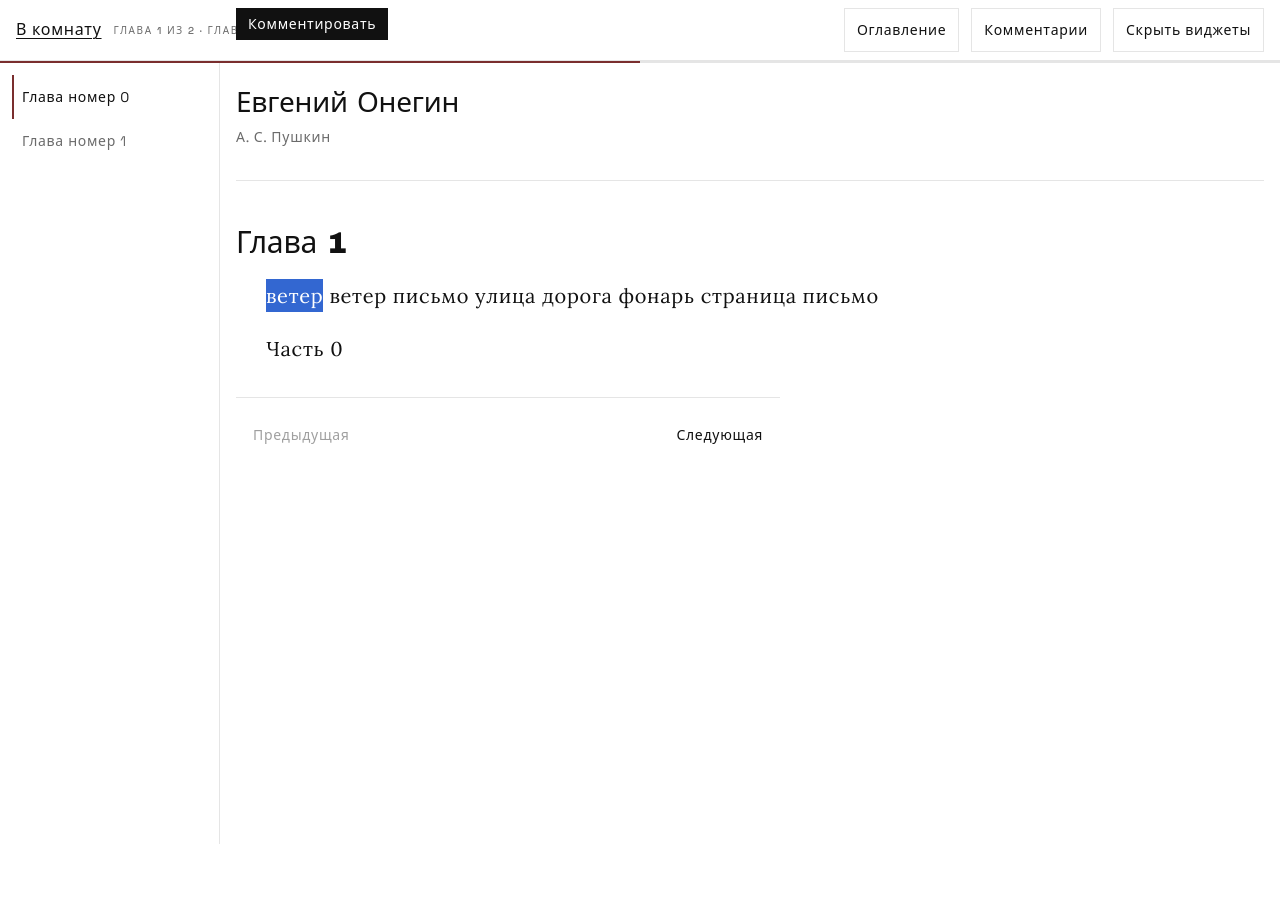
Test case: создание комментария целиком › два комментария подряд дают два маркера
Expected: the text "ветер ветер письмо улица дорога фонарь страница письмо" is shown, [236, 279, 916, 312]
Click the button "Комментировать": (312, 24) [236, 8, 388, 40]
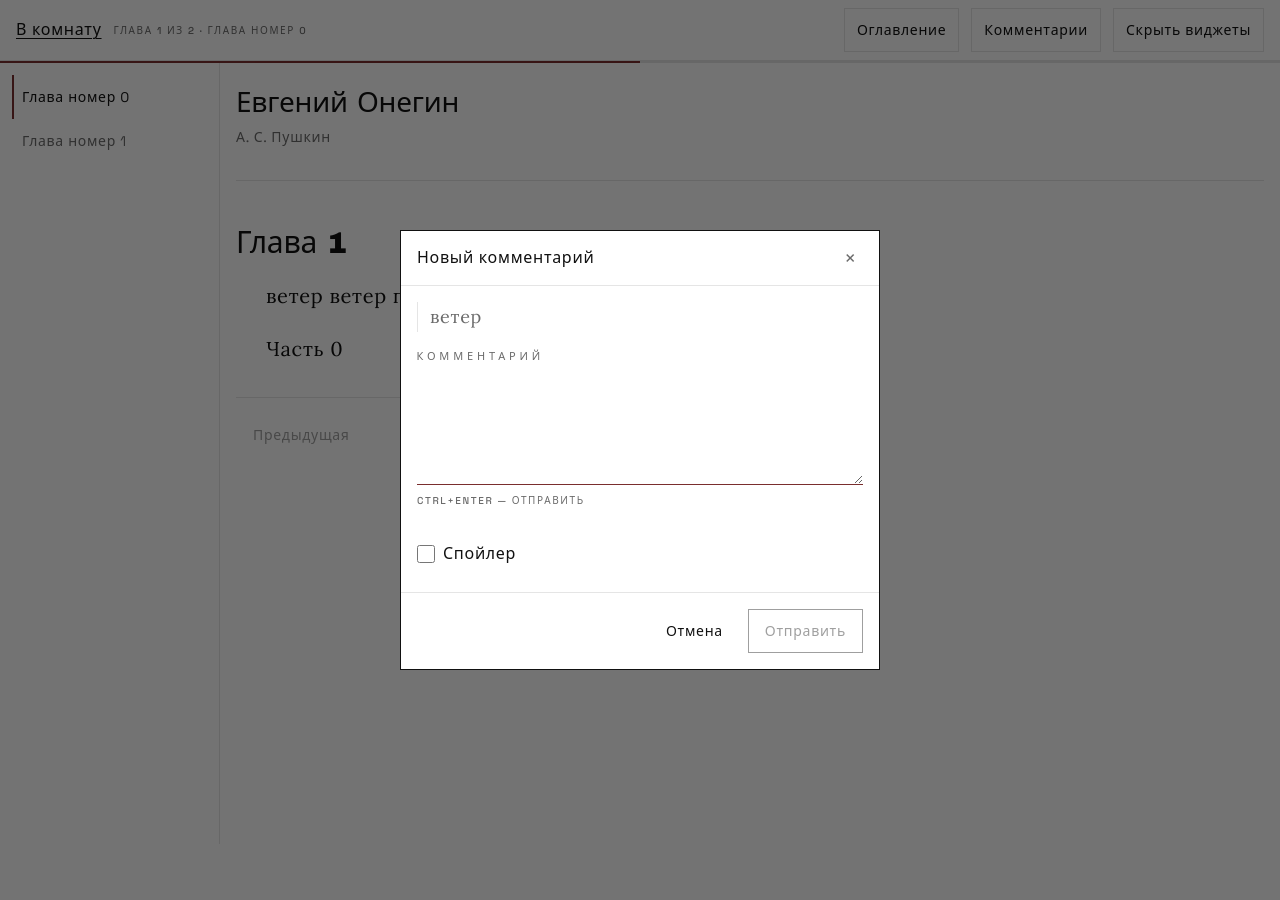
In the text box labelled "Комментарий": (640, 429) [417, 372, 863, 485], type "Первый"
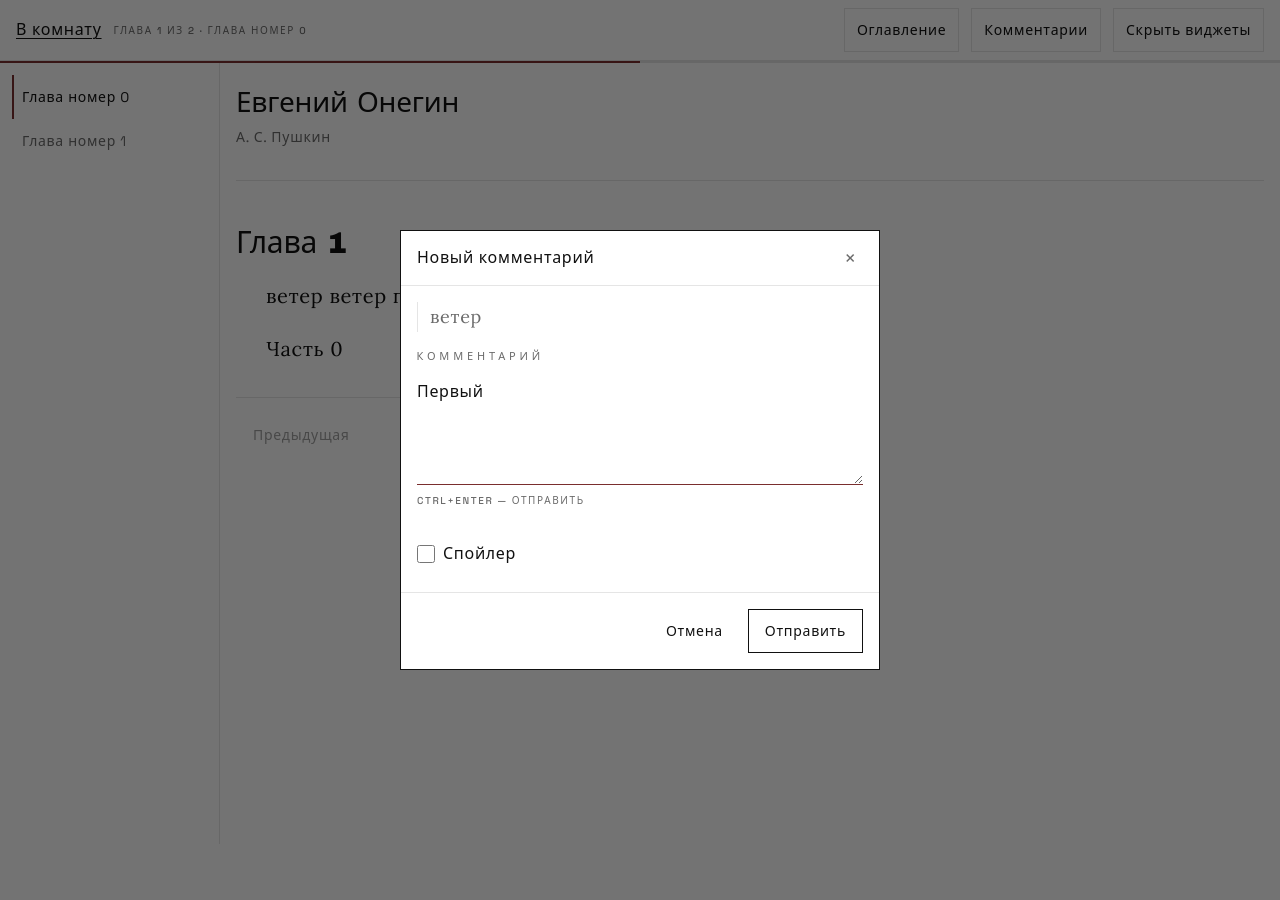
Click the button "Отправить": (805, 631) [748, 609, 863, 653]
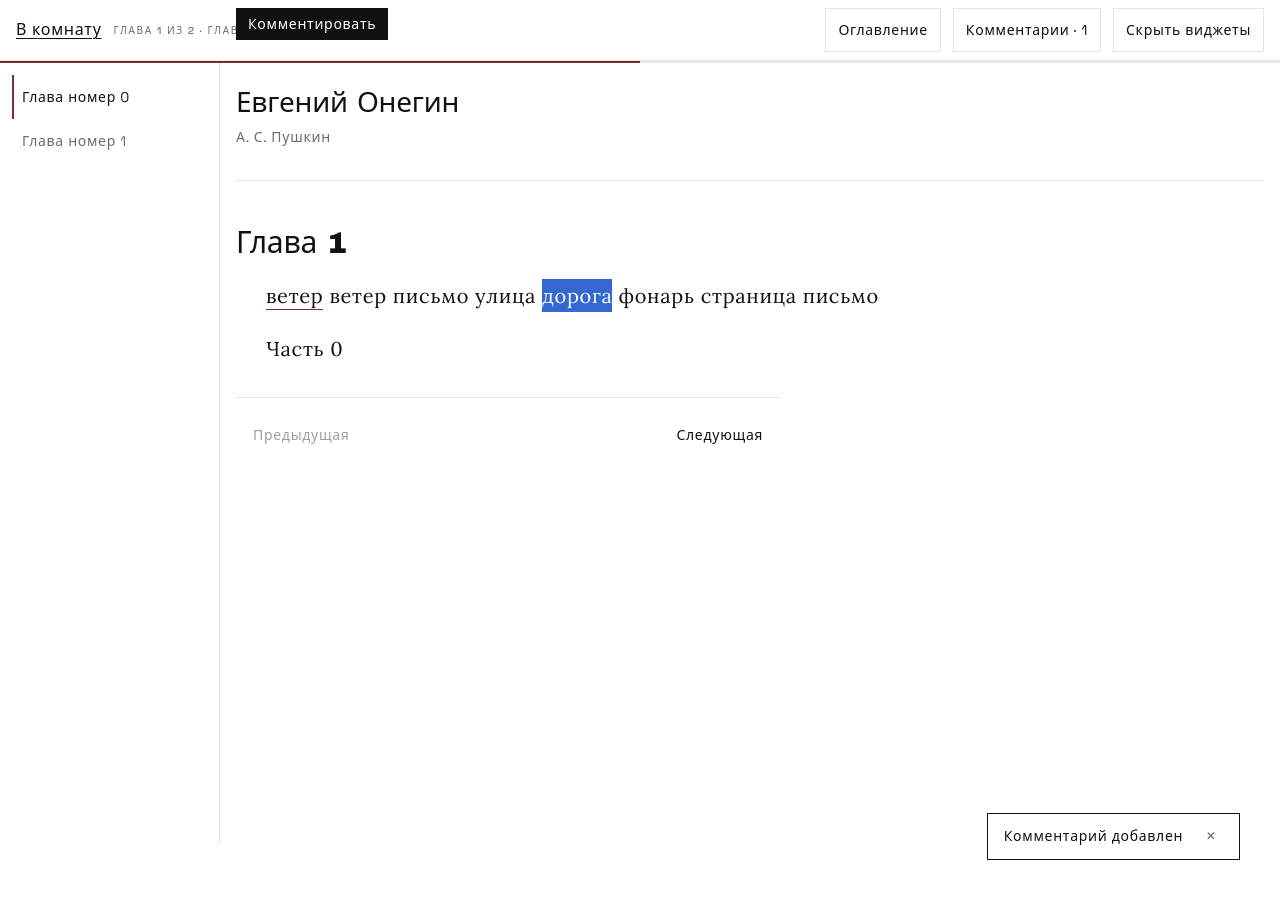
Expected: the number of elements with class "rd-comment-marker" is 1, [266, 283, 324, 310]
Click the button "Комментировать": (312, 24) [236, 8, 388, 40]
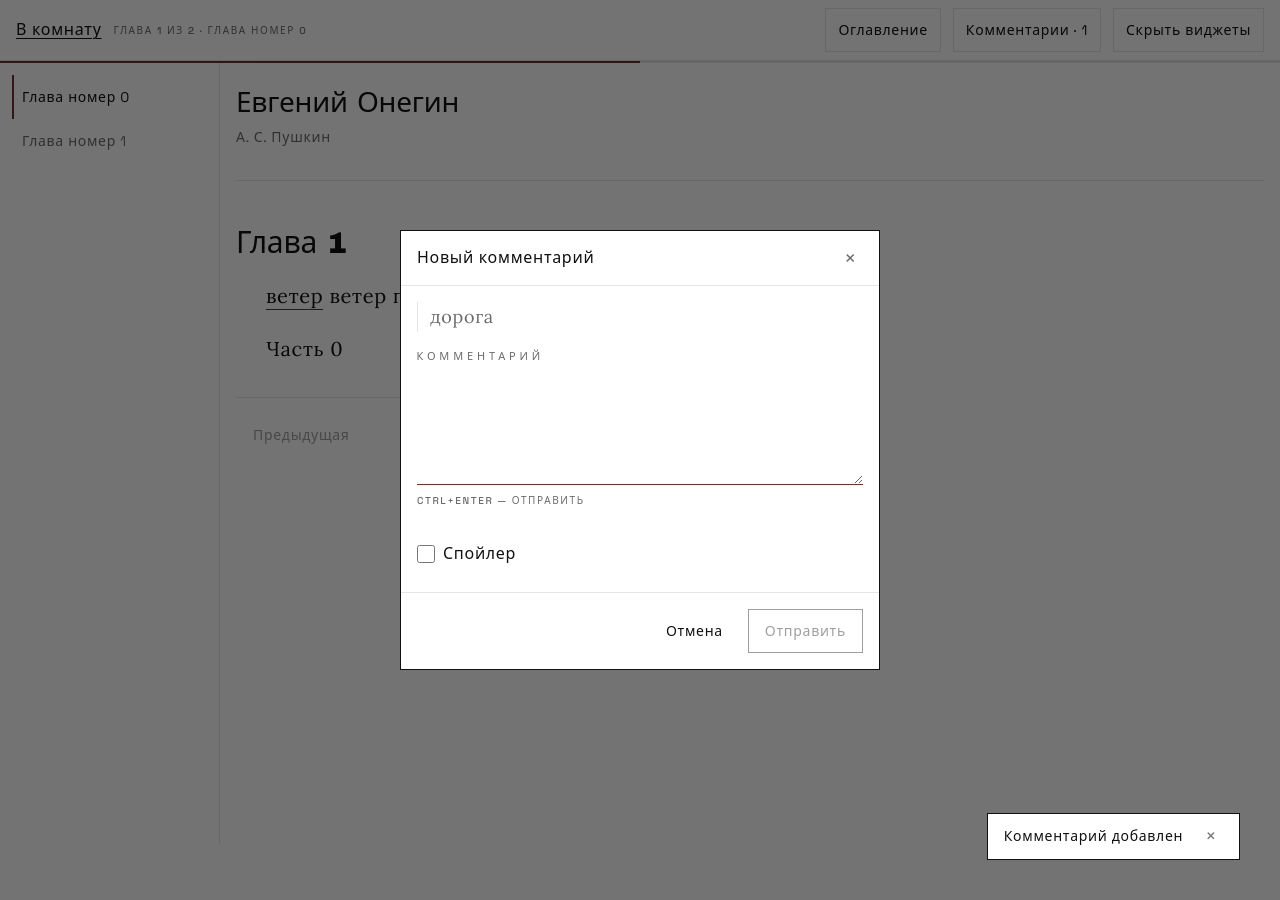
In the text box labelled "Комментарий": (640, 429) [417, 372, 863, 485], type "Второй"
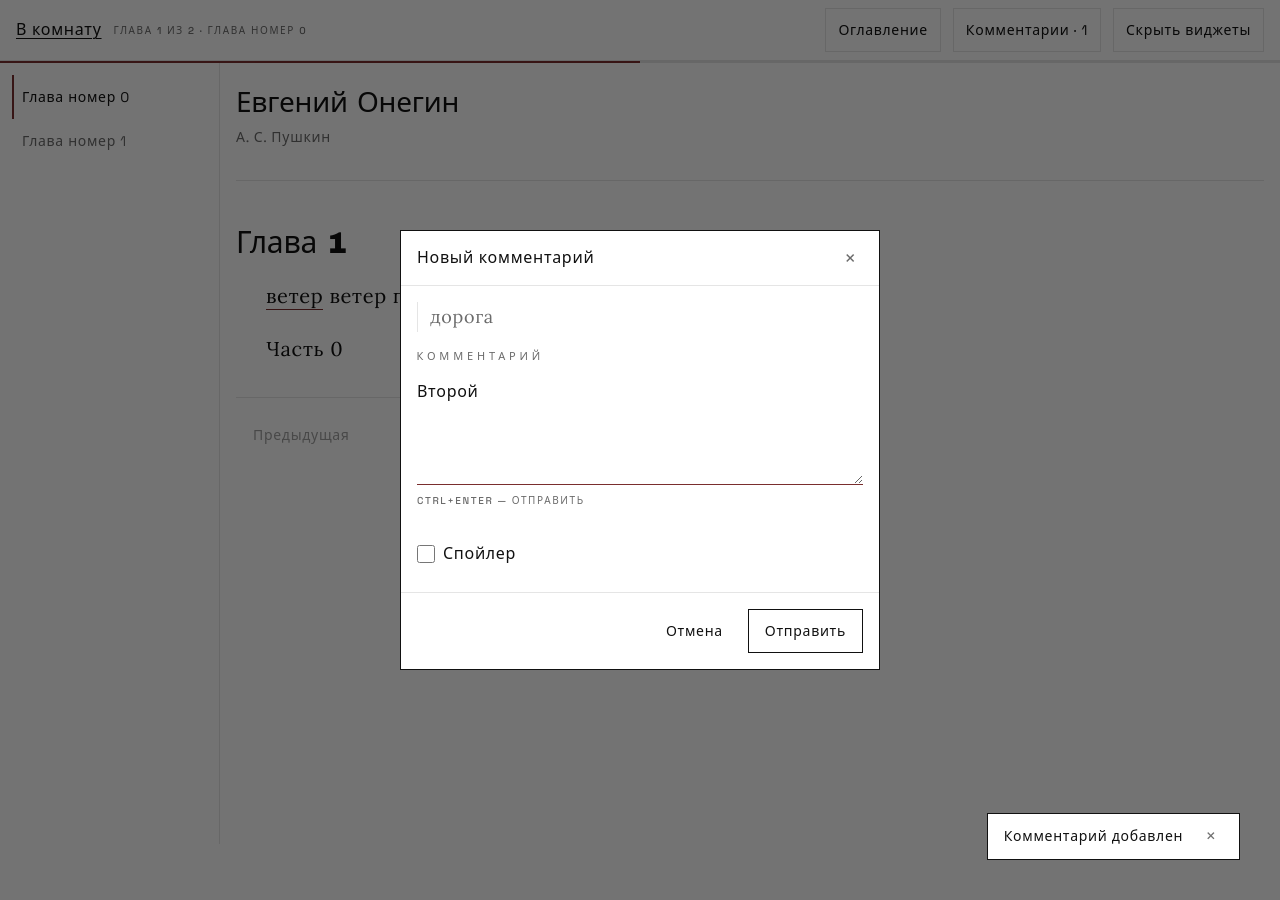
Click the button "Отправить": (805, 631) [748, 609, 863, 653]
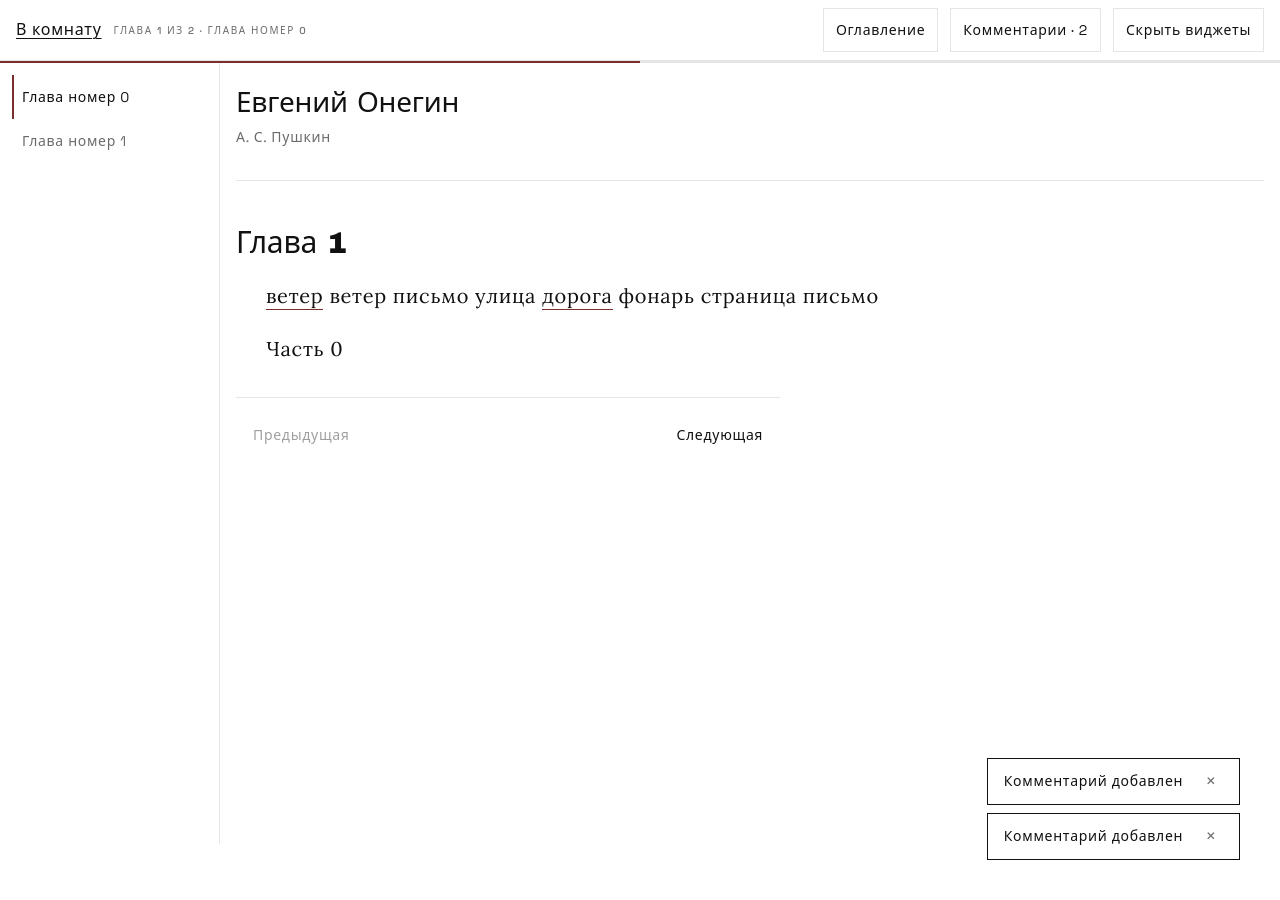
Expected: the number of elements with class "rd-comment-marker" is 2, [266, 283, 324, 310]; [542, 283, 612, 310]
